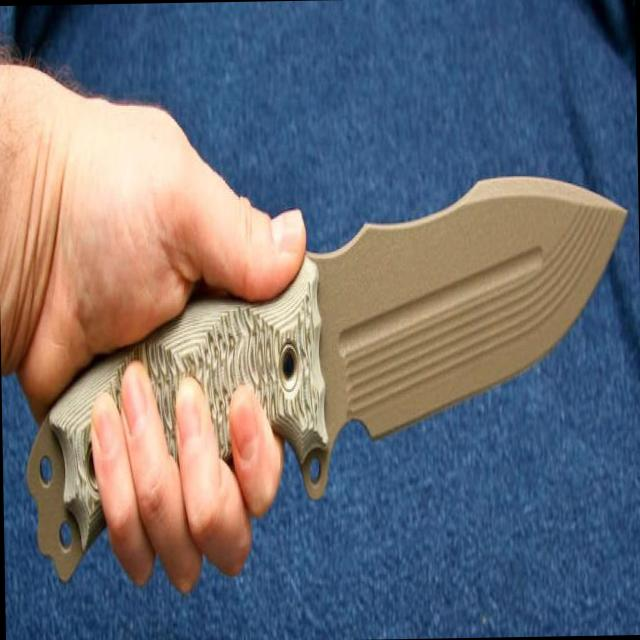Knife: (28, 176, 626, 579)
